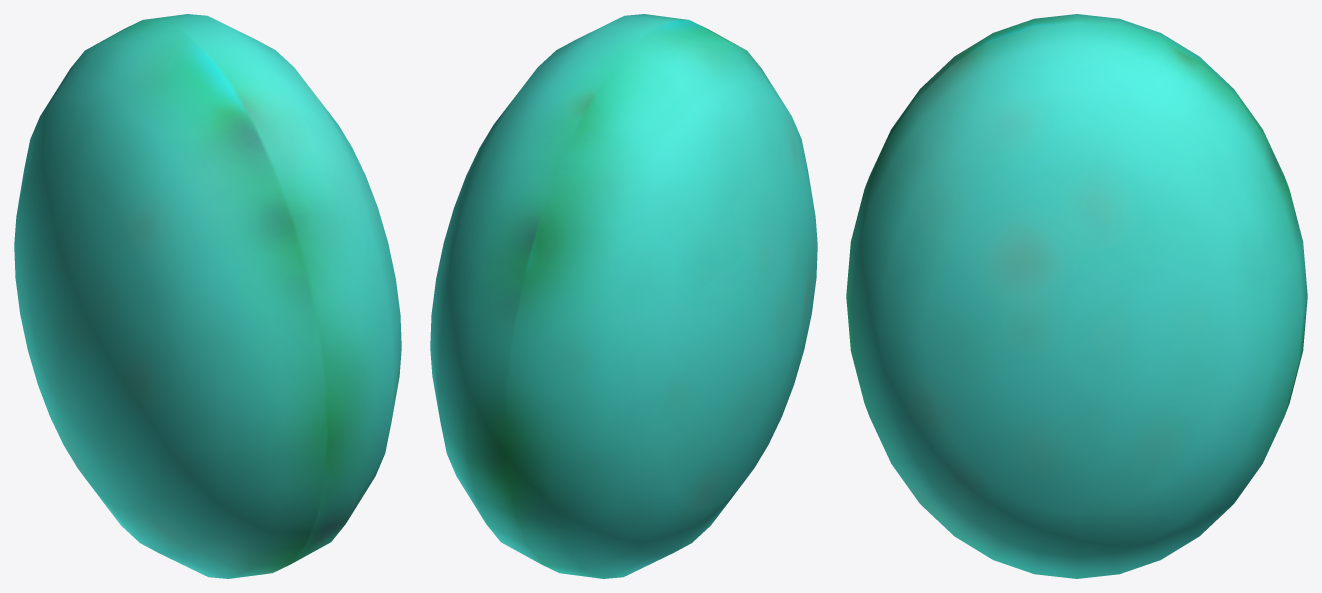
File: SM_Gem_F_Bronze.fbx
3 views of the same model, side by side, from view 1: azimuth 30°, elevation 25°; view 2: azimuth 150°, elevation 25°; view 3: azimuth 270°, elevation 25° (orthographic).
Parts seen in each view (by area): view 1: SM_Gem_F_Bronze_LOD0; view 2: SM_Gem_F_Bronze_LOD0; view 3: SM_Gem_F_Bronze_LOD0.
Part boxes in pixels (x1,y1,x2,y2): SM_Gem_F_Bronze_LOD0: [14, 14, 401, 578]; SM_Gem_F_Bronze_LOD0: [430, 14, 817, 578]; SM_Gem_F_Bronze_LOD0: [846, 14, 1307, 578].
Bounding box in the file's own units: 2.21 × 3.05 × 3.85.
1 material, 1 textured.
